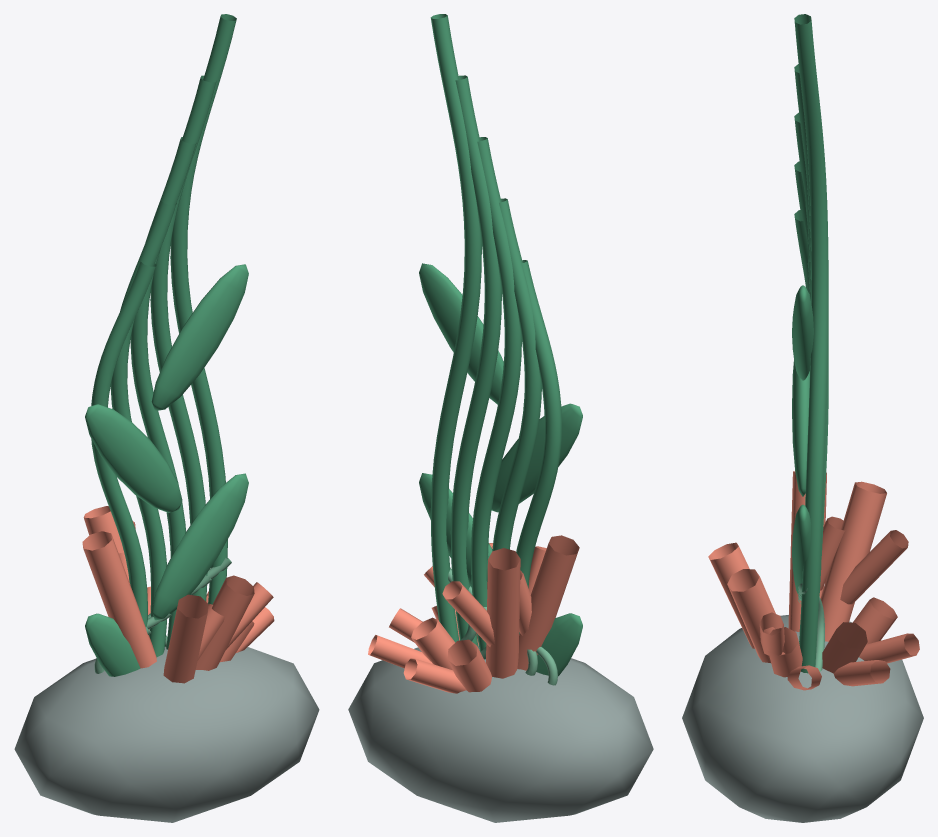
Rendered from environment-1.glb.
3 views of the same model, side by side, from view 1: azimuth 30°, elevation 25°; view 2: azimuth 150°, elevation 25°; view 3: azimuth 270°, elevation 25° (orthographic). The views are drawn at different scales.
Visible parts, largest first — view 1: kelp_1, rock_1, coral_1, grass_1; view 2: kelp_1, rock_1, coral_1, grass_1; view 3: rock_1, coral_1, kelp_1, grass_1.
Boxes of the visible parts, bbox=[...] form: kelp_1: bbox=[85, 14, 248, 676]; rock_1: bbox=[14, 647, 319, 822]; coral_1: bbox=[82, 506, 274, 683]; grass_1: bbox=[94, 558, 231, 673]; kelp_1: bbox=[419, 14, 582, 676]; rock_1: bbox=[348, 645, 653, 822]; coral_1: bbox=[368, 535, 579, 693]; grass_1: bbox=[448, 568, 557, 685]; rock_1: bbox=[682, 615, 923, 822]; coral_1: bbox=[708, 471, 919, 690]; kelp_1: bbox=[792, 14, 828, 673]; grass_1: bbox=[798, 583, 824, 671].
Size of the model in its own units: 1.62 by 4.46 by 1.2.
